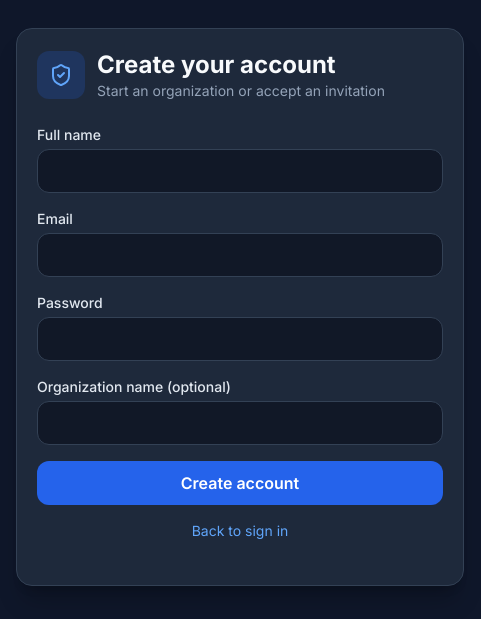
Test: Stage 1 application › shows safe field-specific backend registration validation
Type "Test User" into the field labelled "Full name" at [240, 171], box [37,149,443,193]
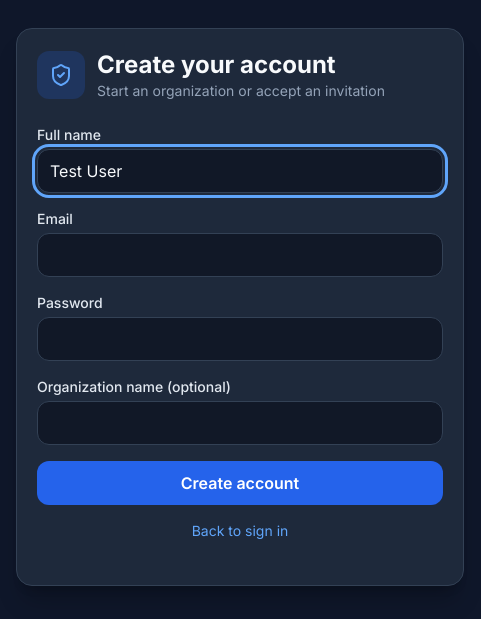
Type "user@example.com" into the field labelled "Email" at [240, 255], box [37,233,443,277]
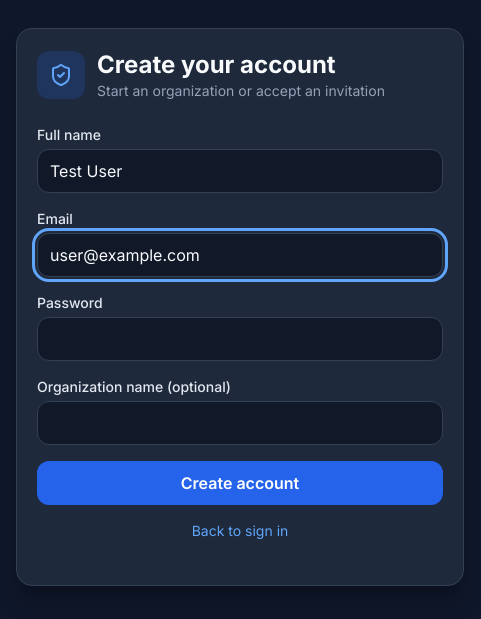
Type "Strong-Password-123!" into the password field labelled "Password" at [240, 339], box [37,317,443,361]
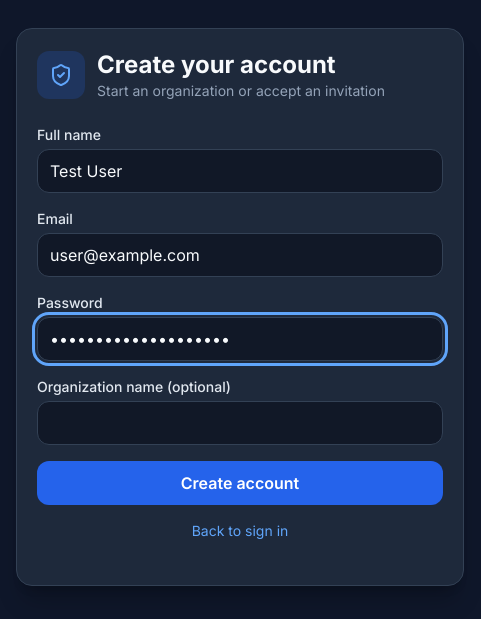
Click the button "Create account" at [240, 483], box [37,461,443,505]
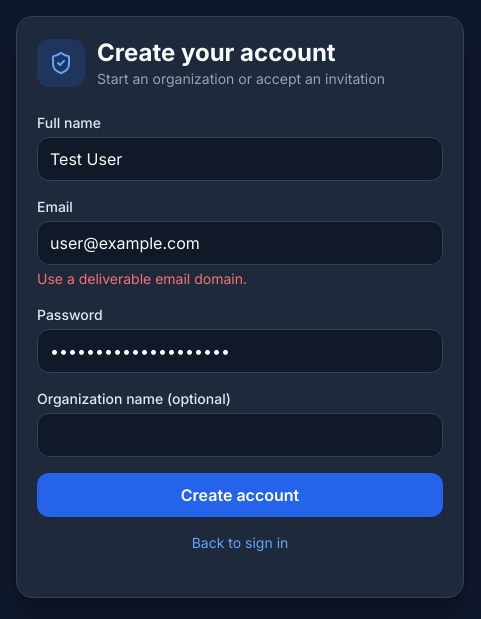
Result: the text "Use a deliverable email domain." is shown at [37,270,247,287]
